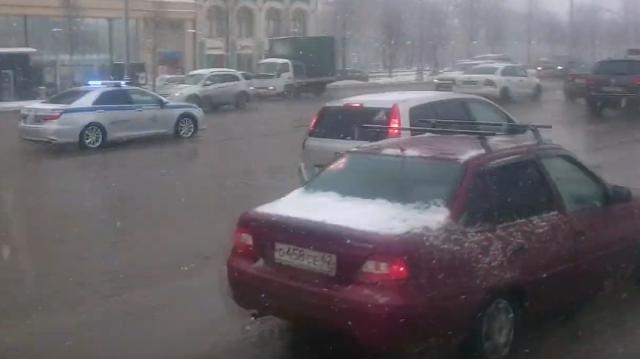non emergency car: (227, 126, 640, 359), (300, 90, 521, 190), (251, 37, 343, 103), (161, 65, 251, 113), (457, 62, 545, 104), (586, 56, 640, 120)
police car: (17, 80, 207, 152)
